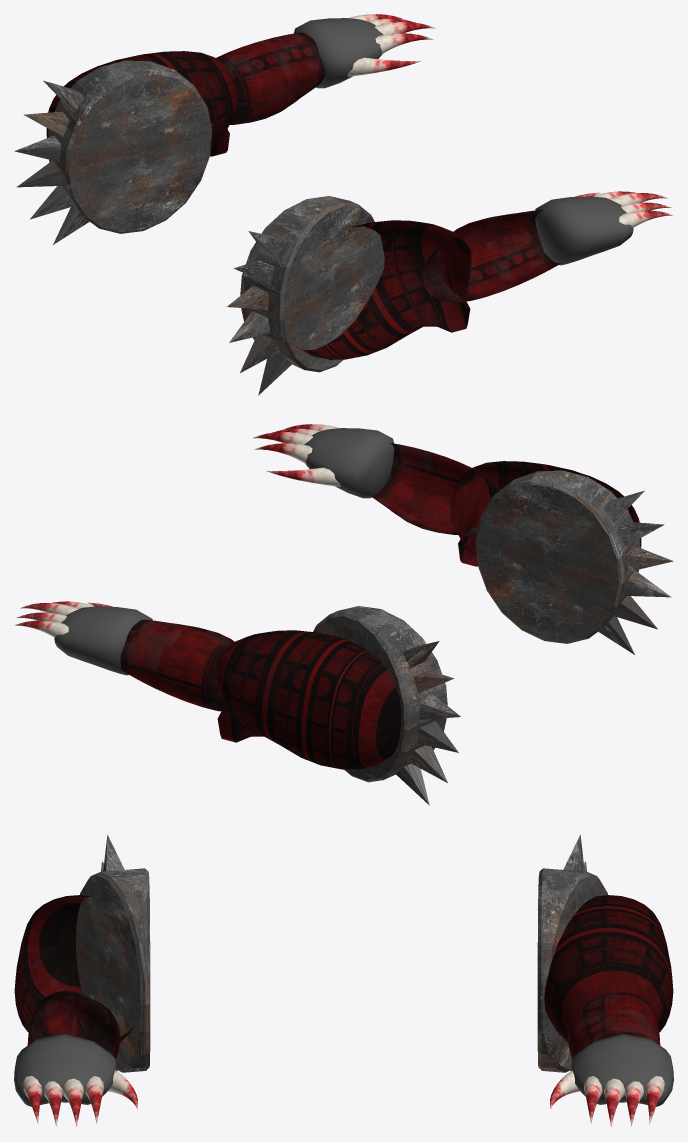
Rendered from Arms.fbx.
3 renders of one model, top to bottom at view 1: azimuth 30°, elevation 25°; view 2: azimuth 150°, elevation 25°; view 3: azimuth 270°, elevation 25°, orthographic. The views are drawn at different scales.
Parts seen in each view (by area): view 1: SpikePad1, SpikePad, Bicep, ForeArm, ForeArm1, Hand, Bicep1, Hand1, Claw5, Claw6; view 2: SpikePad, Bicep1, SpikePad1, ForeArm1, ForeArm, Hand, Bicep, Hand1, Claw, Claw1; view 3: SpikePad, Bicep1, SpikePad1, Bicep, Hand1, Hand, ForeArm, ForeArm1, Claw7, Claw2, Claw9, Claw4 (+6 smaller).
Part boxes in pixels (x1,y1,x2,y2): SpikePad1: [14, 60, 212, 244]; SpikePad: [227, 196, 384, 395]; Bicep: [297, 220, 471, 359]; ForeArm: [422, 209, 562, 302]; ForeArm1: [216, 32, 325, 124]; Hand: [535, 196, 633, 265]; Bicep1: [46, 51, 237, 156]; Hand1: [294, 18, 383, 88]; Claw5: [347, 57, 421, 76]; Claw6: [375, 33, 433, 54]; SpikePad: [475, 470, 673, 654]; Bicep1: [216, 630, 401, 769]; SpikePad1: [313, 606, 460, 805]; ForeArm1: [120, 619, 234, 711]; ForeArm: [369, 443, 499, 535]; Hand: [304, 428, 394, 498]; Bicep: [450, 461, 641, 566]; Hand1: [54, 606, 152, 675]; Claw: [266, 467, 340, 486]; Claw1: [254, 443, 312, 464]; SpikePad: [76, 834, 150, 1072]; Bicep1: [544, 895, 673, 1042]; SpikePad1: [537, 834, 607, 1072]; Bicep: [14, 895, 133, 1042]; Hand1: [570, 1034, 673, 1106]; Hand: [14, 1034, 117, 1106]; ForeArm: [27, 990, 120, 1059]; ForeArm1: [567, 992, 660, 1059]; Claw7: [604, 1078, 625, 1126]; Claw2: [62, 1078, 83, 1126]; Claw9: [645, 1076, 664, 1123]; Claw4: [23, 1076, 42, 1123].
Bounding box in the file's own units: 2.78 × 1.04 × 3.19.
